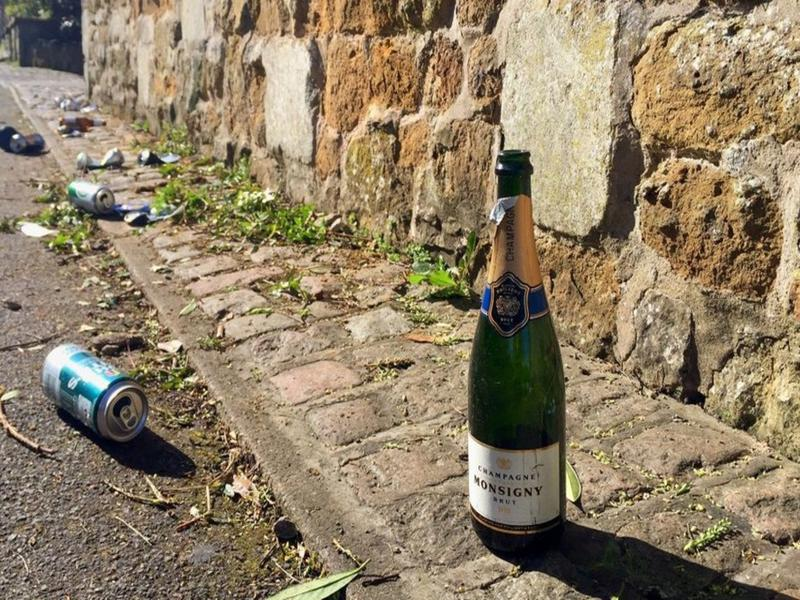bottle: (439, 148, 600, 564)
can: (34, 335, 151, 446)
